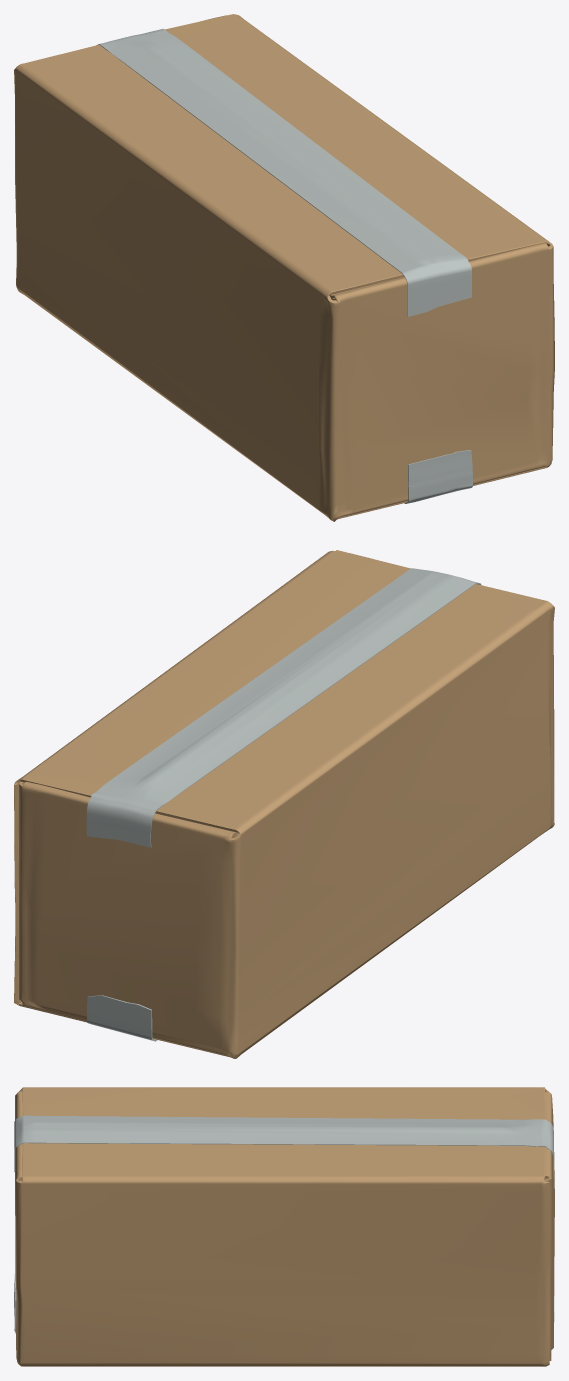
File: box_long_a11.glb
3 renders of one model, top to bottom at view 1: azimuth 30°, elevation 25°; view 2: azimuth 150°, elevation 25°; view 3: azimuth 270°, elevation 25°, orthographic. The views are drawn at different scales.
Size of the model in its own units: 0.1079 by 0.1056 by 0.2622.
